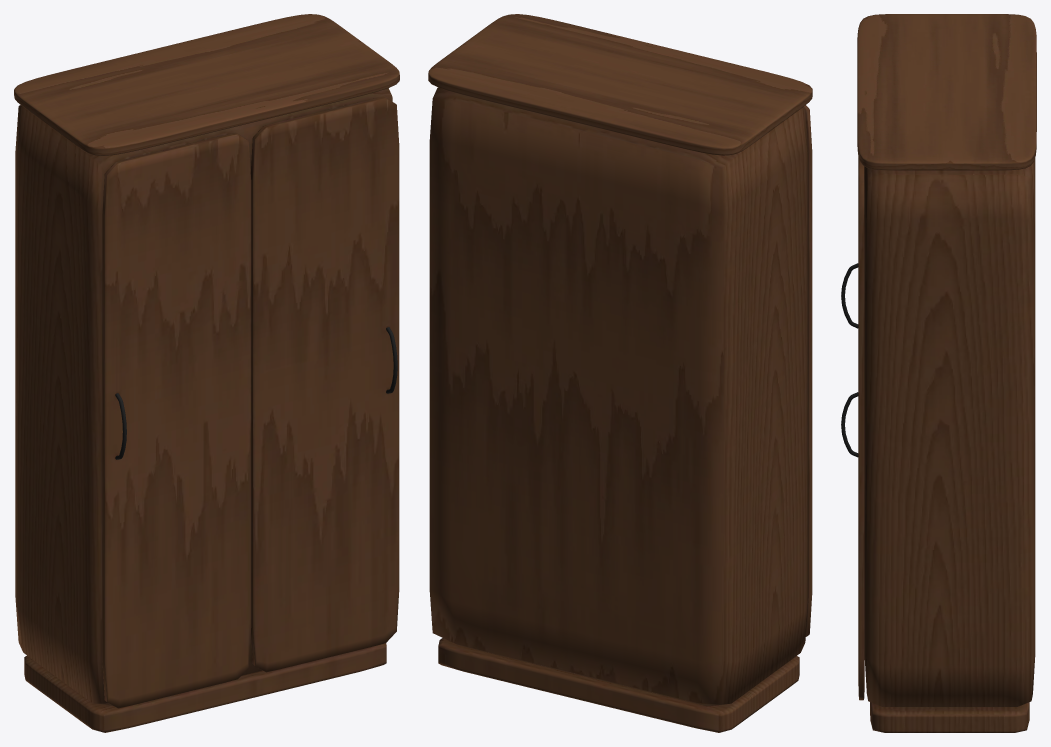
File: walnut-tall.glb
3 renders of one model, left to right at view 1: azimuth 30°, elevation 25°; view 2: azimuth 150°, elevation 25°; view 3: azimuth 270°, elevation 25°, orthographic. The views are drawn at different scales.
Parts seen in each view (by area): view 1: wood_v, wood_x, brass_handle; view 2: wood_v, wood_x; view 3: wood_v, wood_x, brass_handle.
Part boxes in pixels (x1,y1,x2,y2): wood_v: [15, 88, 399, 732]; wood_x: [14, 14, 399, 155]; brass_handle: [115, 327, 397, 459]; wood_v: [429, 87, 812, 732]; wood_x: [428, 14, 812, 155]; wood_v: [858, 156, 1035, 732]; wood_x: [857, 14, 1036, 170]; brass_handle: [841, 263, 858, 457].
Bounding box in the file's own units: 1.24 × 2.24 × 0.6865.
Materials: 3 (3 with a texture image).
